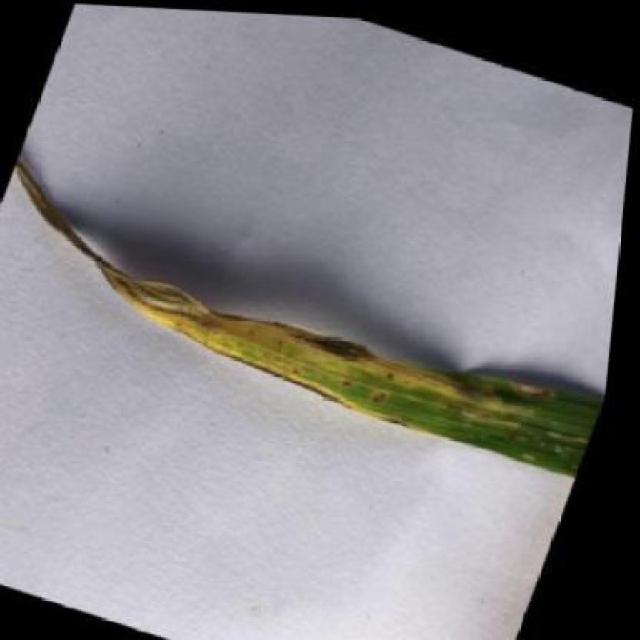Rice False Smut: (0, 165, 628, 477)
